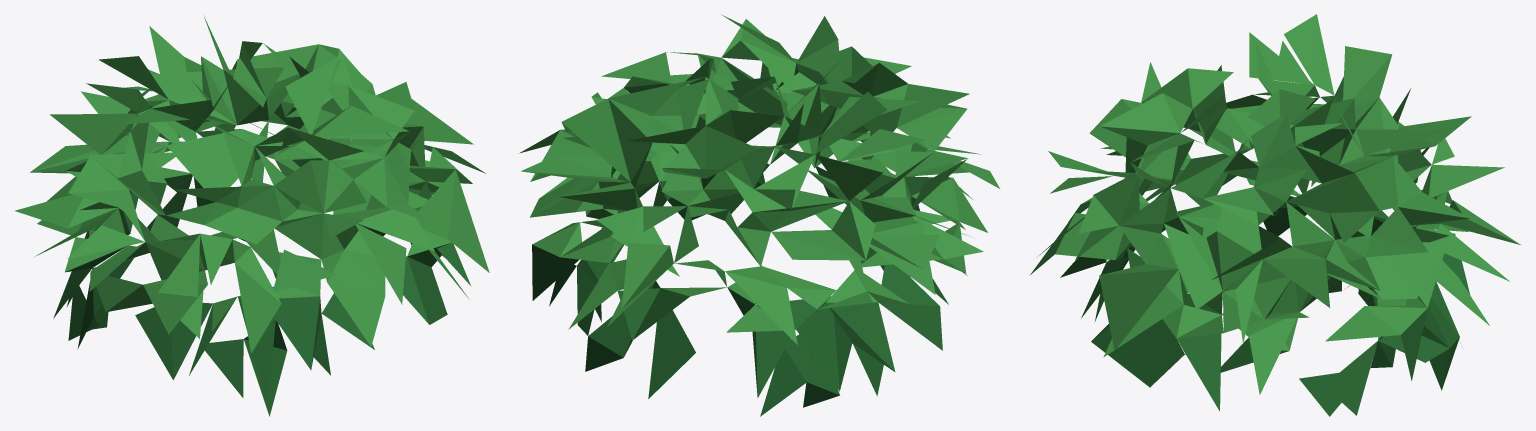
Rendered from bush-1.glb.
3 renders of one model, left to right at view 1: azimuth 30°, elevation 25°; view 2: azimuth 150°, elevation 25°; view 3: azimuth 270°, elevation 25°, orthographic. The views are drawn at different scales.
Visible parts, largest first — view 1: output_unwrapped; view 2: output_unwrapped; view 3: output_unwrapped.
Boxes of the visible parts, x1,y1,x2,y2 form: output_unwrapped: (14,15,489,416); output_unwrapped: (519,14,999,416); output_unwrapped: (1029,14,1520,416).
Bounding box in the file's own units: 1.57 × 1.04 × 1.6.
